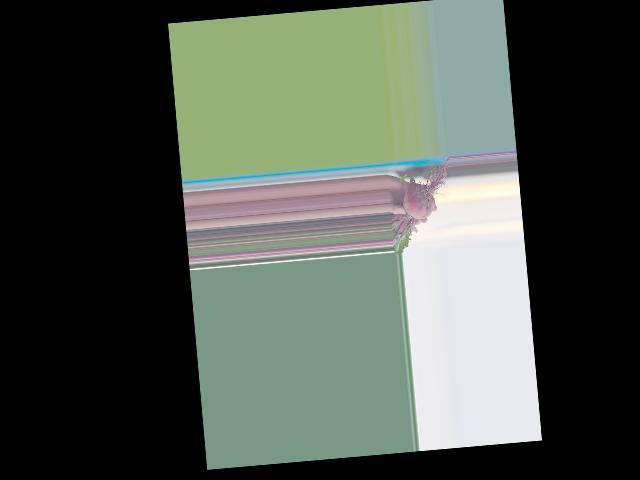beet: (386, 157, 457, 254)
